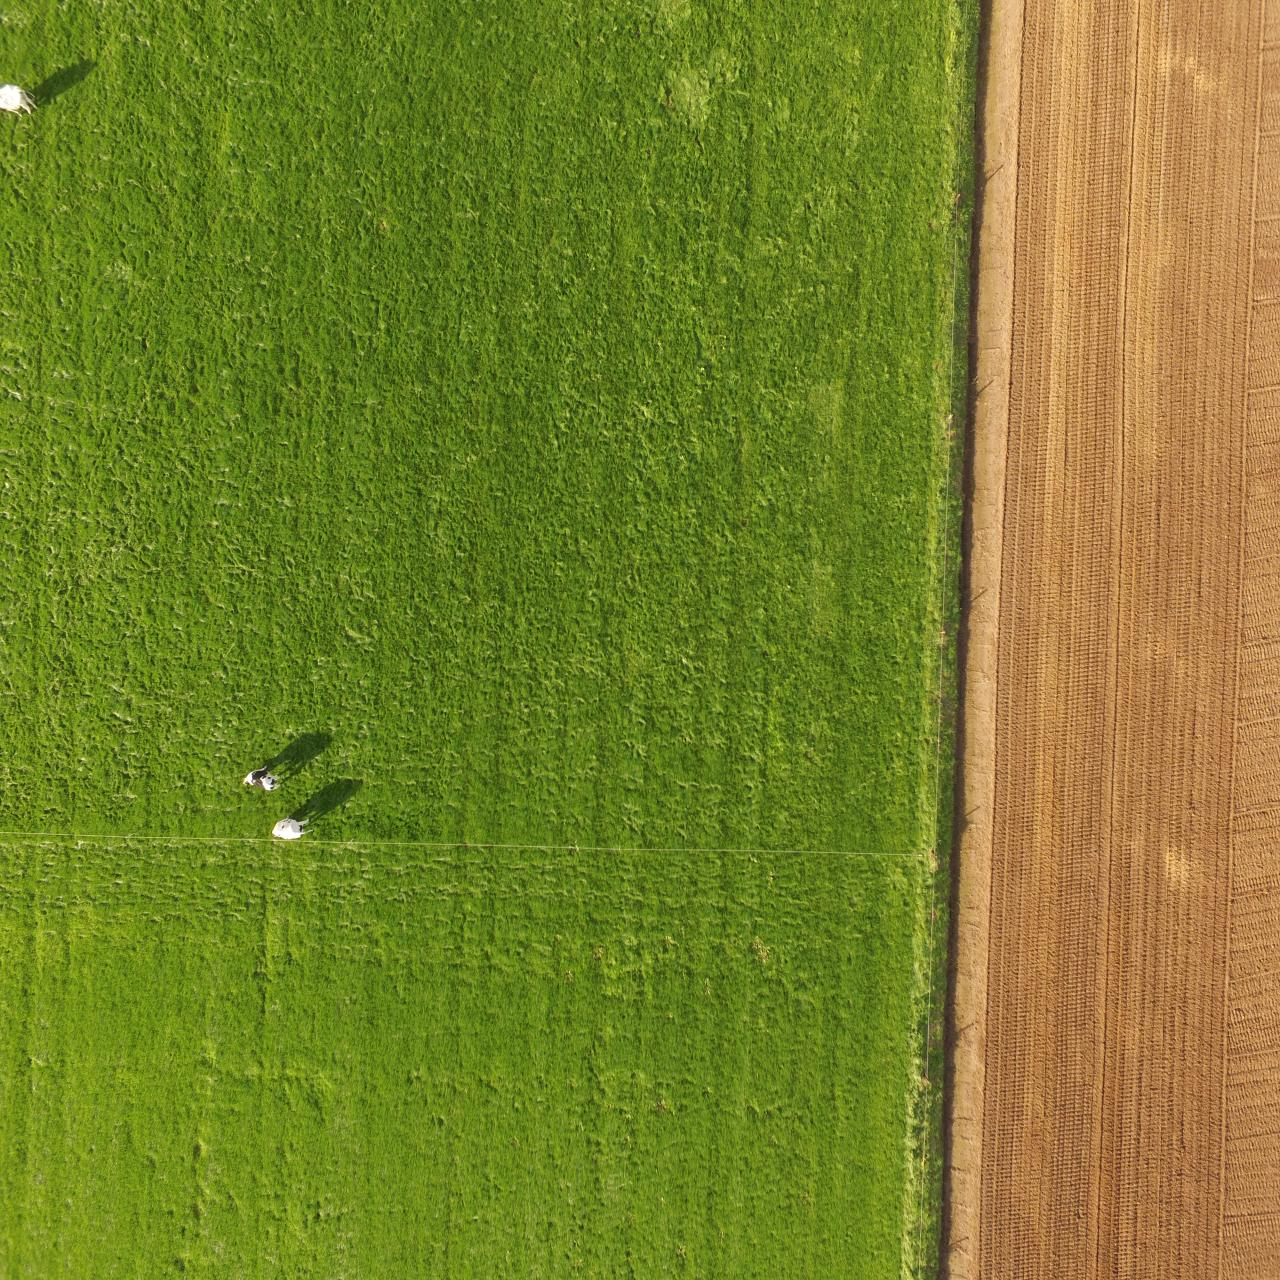cow: (0, 82, 38, 117), (271, 816, 315, 842), (241, 764, 282, 791)
